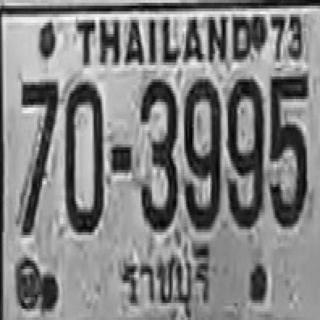N00: (65, 79, 103, 232)
N03: (139, 76, 176, 230)
N05: (269, 72, 308, 225)
N07: (18, 79, 58, 235)
N09: (183, 76, 221, 226), (226, 76, 263, 226)
P52: (116, 241, 210, 318)
